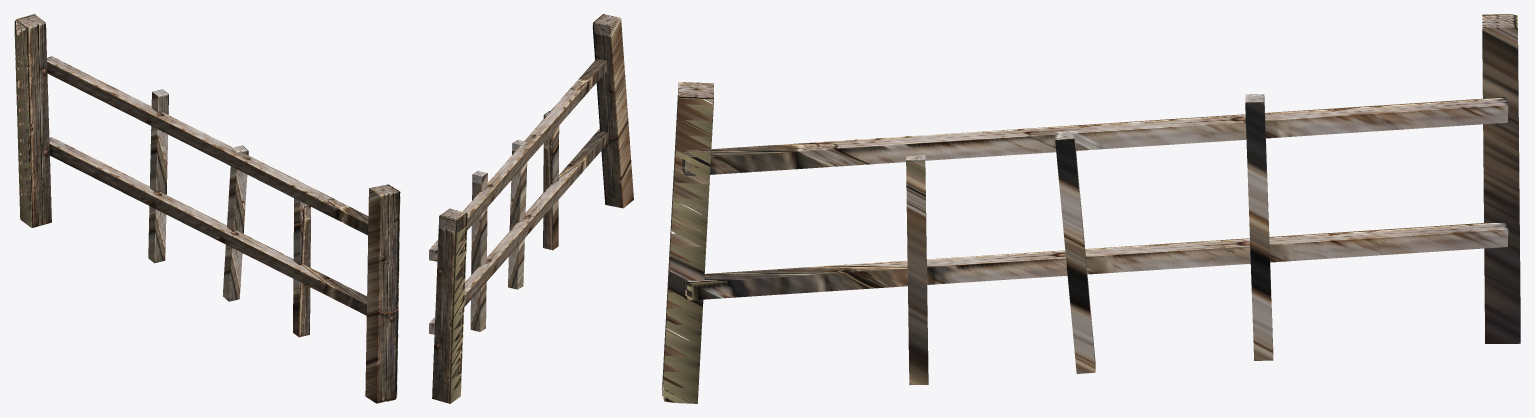
The model's file is fence_09.glb.
3 views of the same model, side by side, from view 1: azimuth 30°, elevation 25°; view 2: azimuth 150°, elevation 25°; view 3: azimuth 270°, elevation 25° (orthographic). The views are drawn at different scales.
Parts seen in each view (by area): view 1: fence_09_game; view 2: fence_09_game; view 3: fence_09_game.
Part boxes in pixels (x1,y1,x2,y2): fence_09_game: (14, 14, 400, 403); fence_09_game: (429, 14, 633, 403); fence_09_game: (662, 14, 1520, 403).
Bounding box in the file's own units: 0.7317 × 1.26 × 3.13.
1 material, 1 textured.
